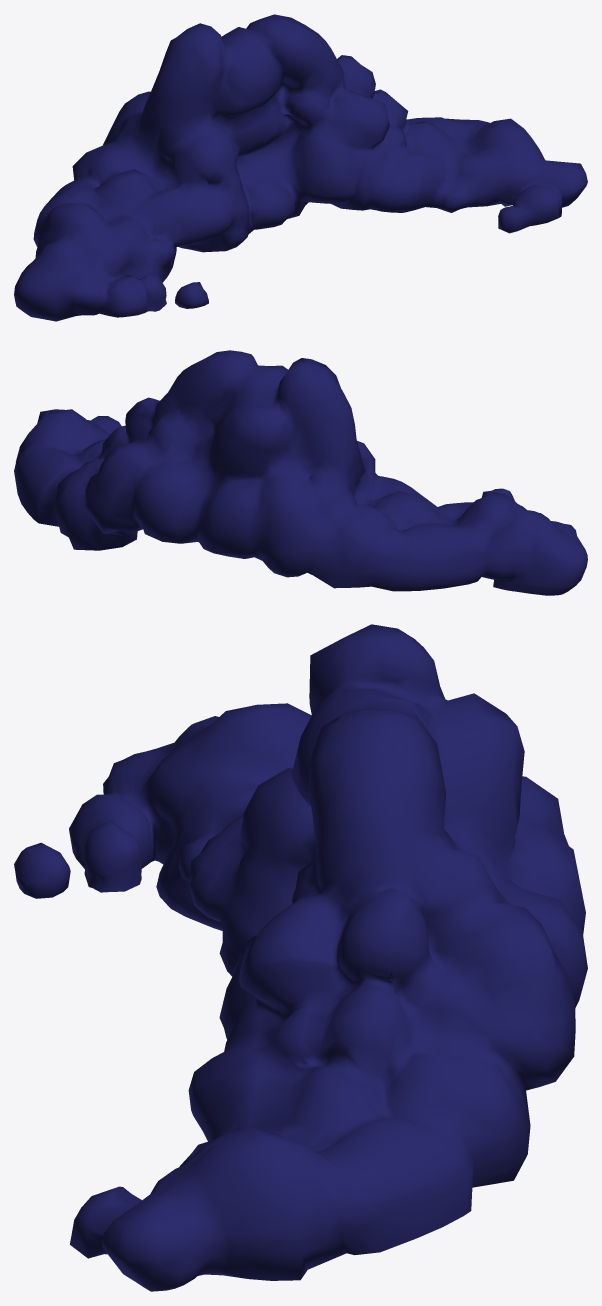
Rendered from pondlow_fbx.fbx.
3 views of the same model, one above another, from view 1: azimuth 30°, elevation 25°; view 2: azimuth 150°, elevation 25°; view 3: azimuth 270°, elevation 25° (orthographic). The views are drawn at different scales.
Parts seen in each view (by area): view 1: OBJ_Pond; view 2: OBJ_Pond; view 3: OBJ_Pond.
Boxes of the visible parts, bbox=[...] form: OBJ_Pond: bbox=[14, 14, 587, 321]; OBJ_Pond: bbox=[14, 350, 587, 595]; OBJ_Pond: bbox=[14, 624, 587, 1291].
Bounding box in the file's own units: 7.42 × 2.67 × 3.6.
